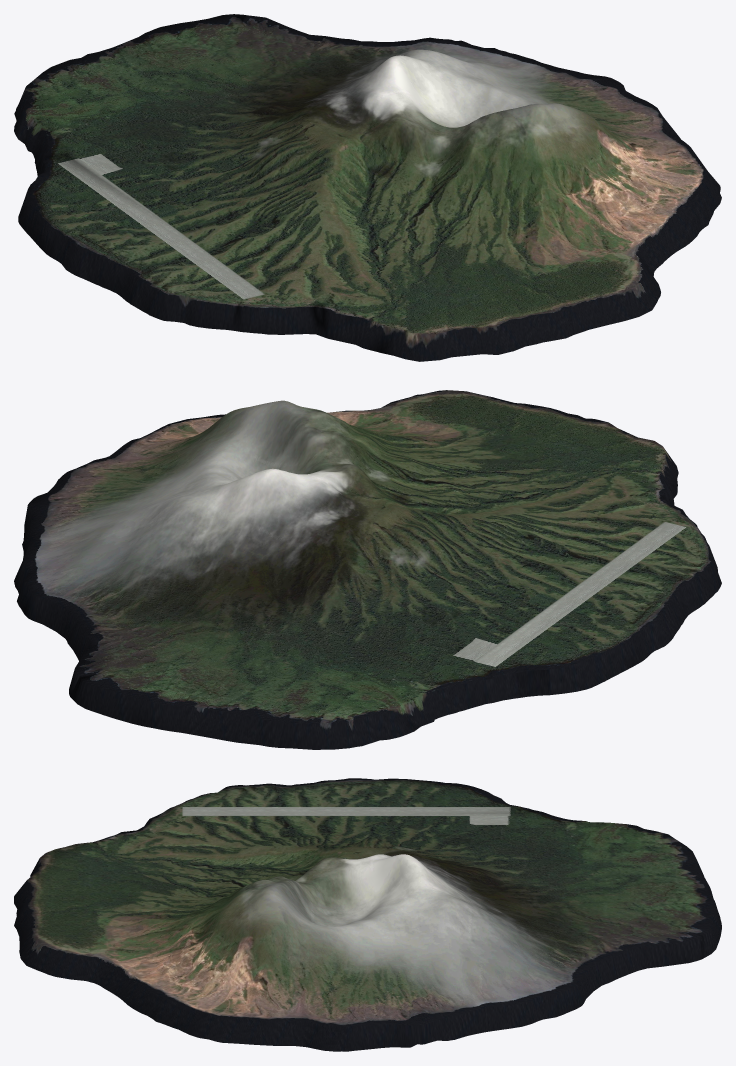
The model's file is homebase2c.glb.
3 views of the same model, one above another, from view 1: azimuth 30°, elevation 25°; view 2: azimuth 150°, elevation 25°; view 3: azimuth 270°, elevation 25° (orthographic). The views are drawn at different scales.
Visible parts, largest first — view 1: Alamagan; view 2: Alamagan; view 3: Alamagan.
Part boxes in pixels (bbox=[...]): Alamagan: bbox=[14, 14, 721, 361]; Alamagan: bbox=[14, 390, 721, 749]; Alamagan: bbox=[14, 778, 721, 1051].
Bounding box in the file's own units: 0.7743 × 0.1301 × 0.9017.
Materials: 1 (1 with a texture image).
